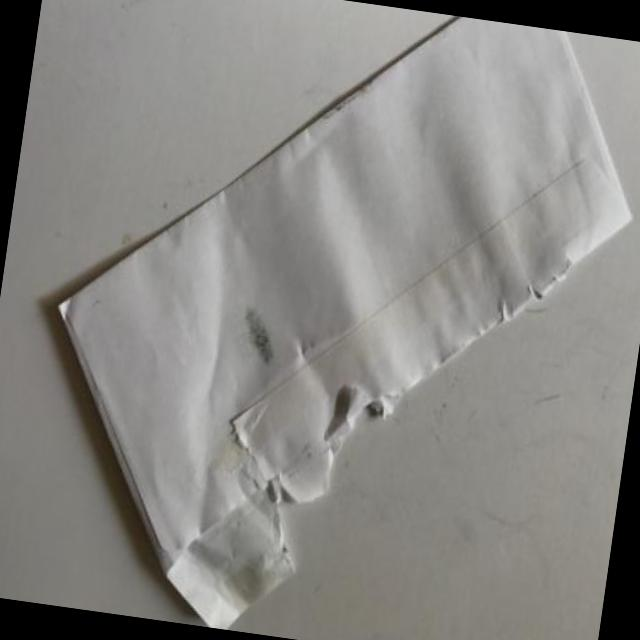giay: (62, 13, 629, 630)
